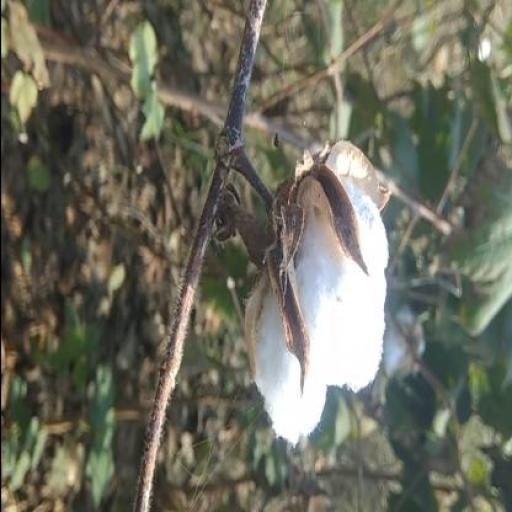cotton_ready: (212, 117, 410, 458)
